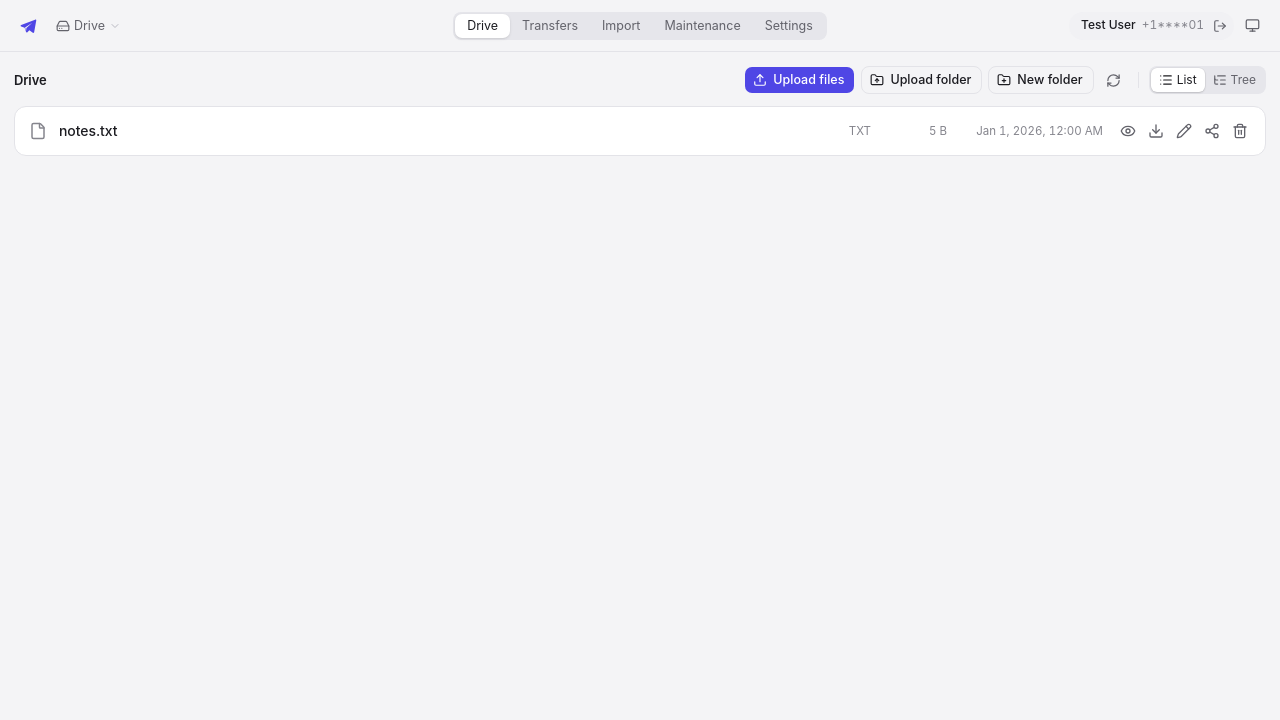
Test: the channel switcher changes the Drive view to the selected channel
expect the list named "Files in /" is shown: met, box [14,106,1266,156]
expect the button "notes.txt" is shown: met, box [59,121,795,141]
Click the button with aria-label "Switch drive" at x=88, y=26, box [48,12,129,40]
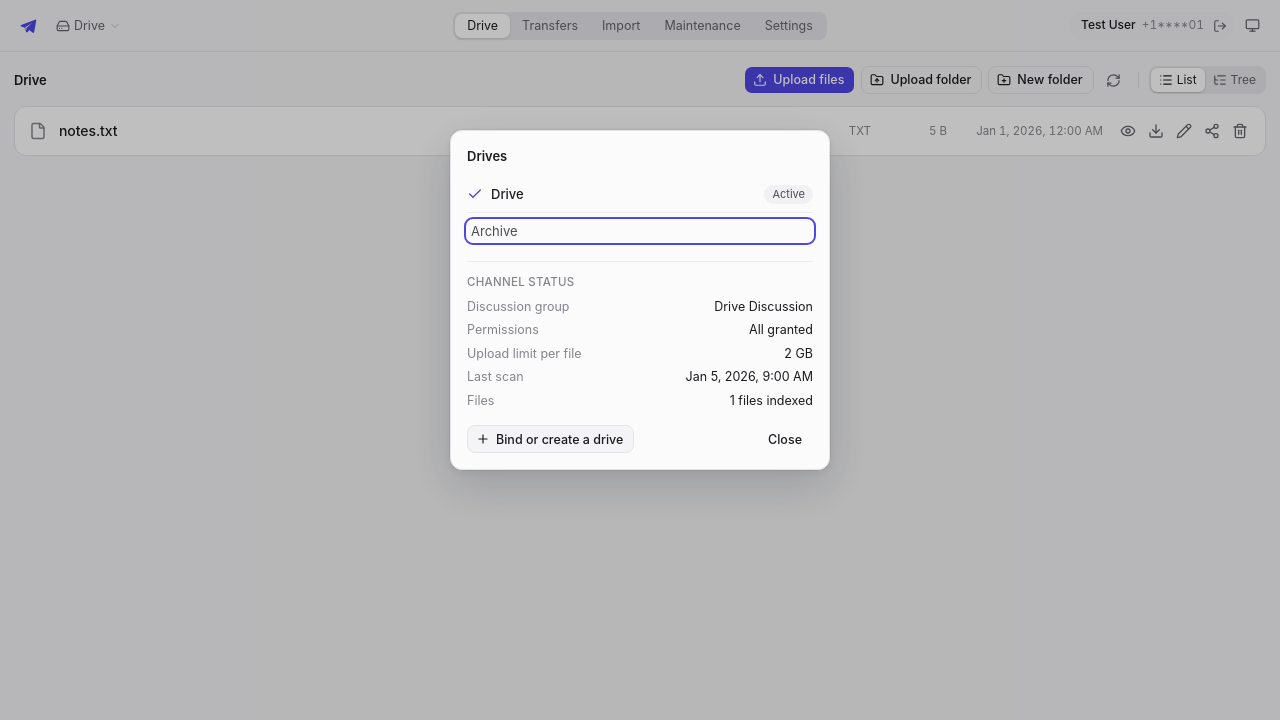
Click the button with aria-label "Switch to Archive" at x=494, y=231, box [467,220,813,242]
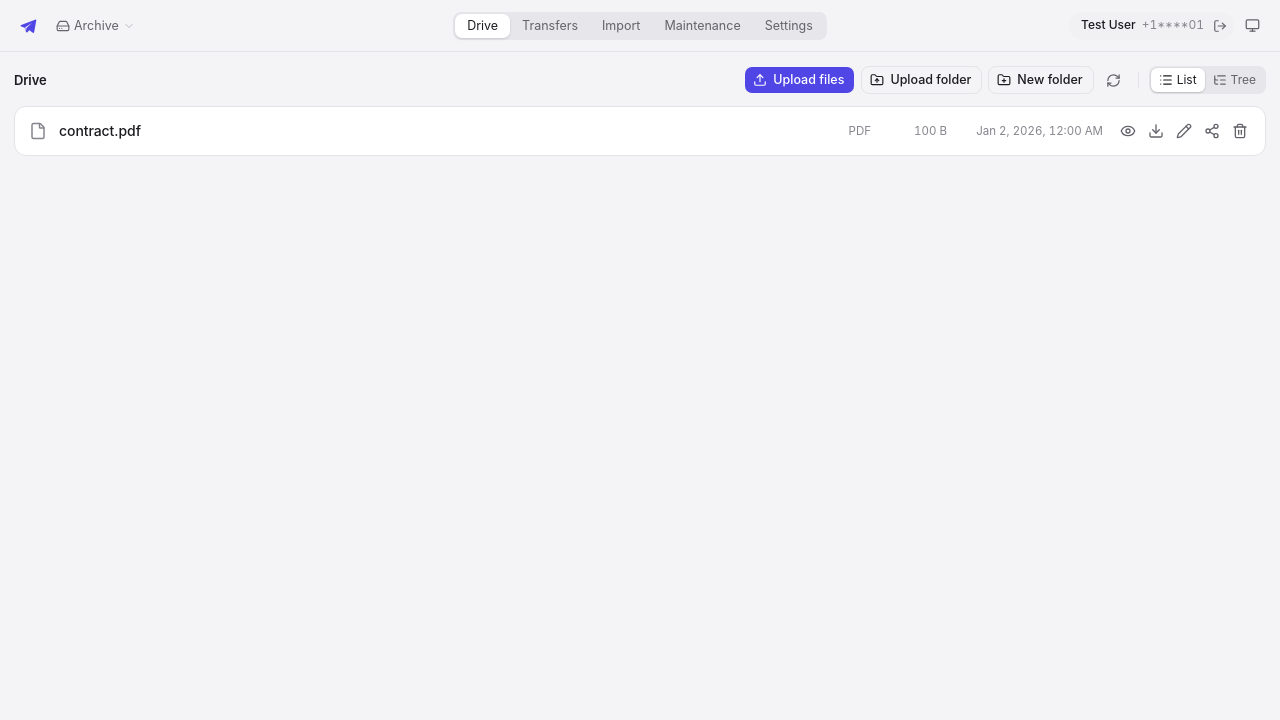
expect the button "contract.pdf" is shown: met, box [59,121,795,141]
expect the button "notes.txt" is gone: met
expect the button with aria-label "Switch drive" reads "Archive": met, box [48,12,143,40]
